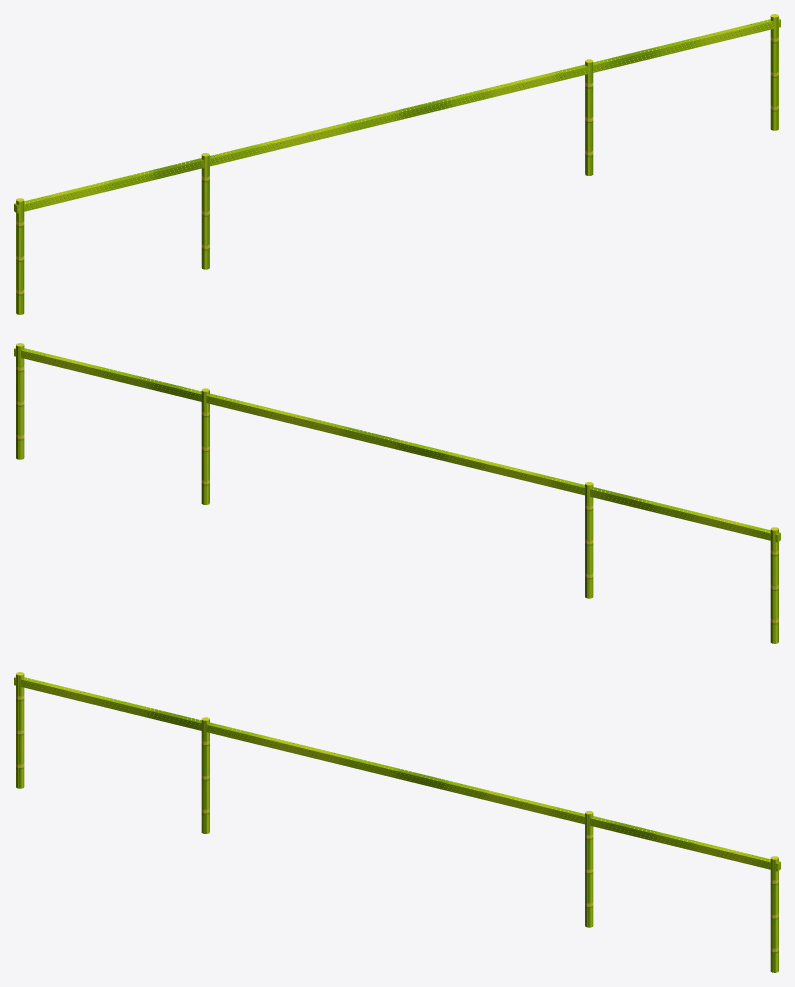
The model's file is gate-29-north-gate-frame-BHBGkjPk.glb.
The picture shows the model from 3 angles, top to bottom: view 1: azimuth 30°, elevation 25°; view 2: azimuth 150°, elevation 25°; view 3: azimuth 330°, elevation 25°; orthographic projection.
Visible parts, largest first — view 1: HI_Gate_29_north-gate_frame; view 2: HI_Gate_29_north-gate_frame; view 3: HI_Gate_29_north-gate_frame.
Part boxes in pixels (x1,y1,x2,y2): HI_Gate_29_north-gate_frame: (14,14,780,314); HI_Gate_29_north-gate_frame: (14,343,780,643); HI_Gate_29_north-gate_frame: (14,672,780,972).
Bounding box in the file's own units: 24.7 × 3.5 × 0.24.
Materials: 1 (1 with a texture image).
